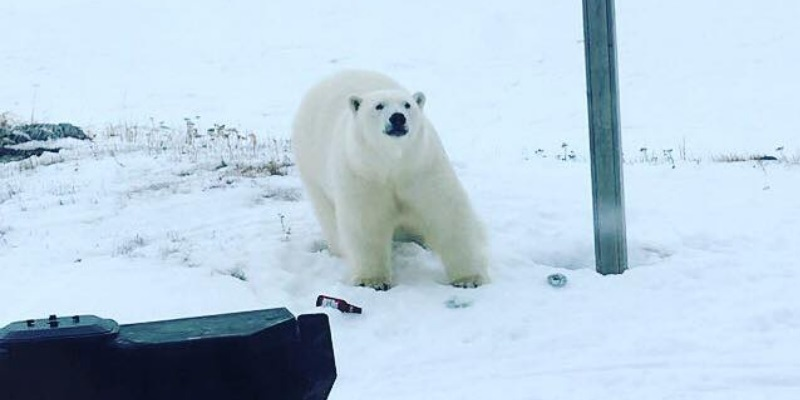Polar Bear: (254, 4, 562, 330)
